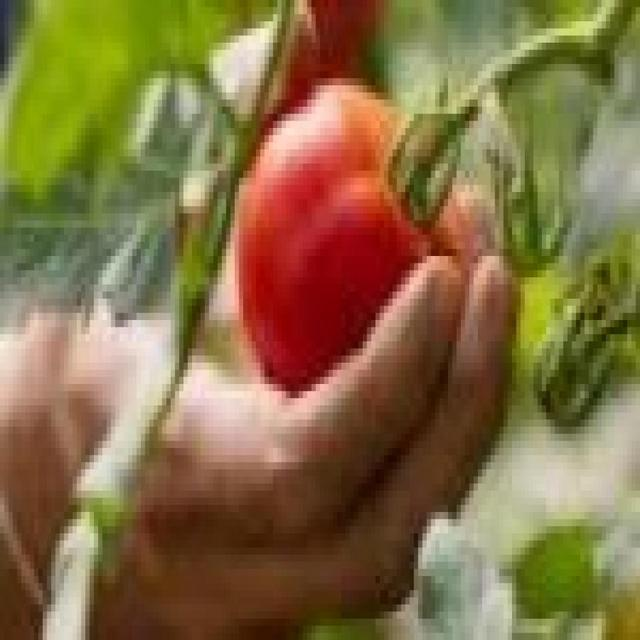Healthy Fruit: (165, 43, 297, 256)
